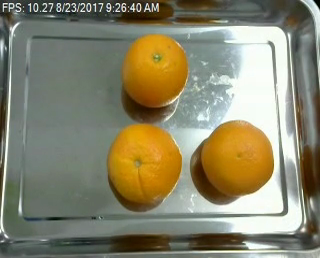Orange: (106, 123, 182, 204), (200, 118, 275, 197), (122, 35, 189, 107)
